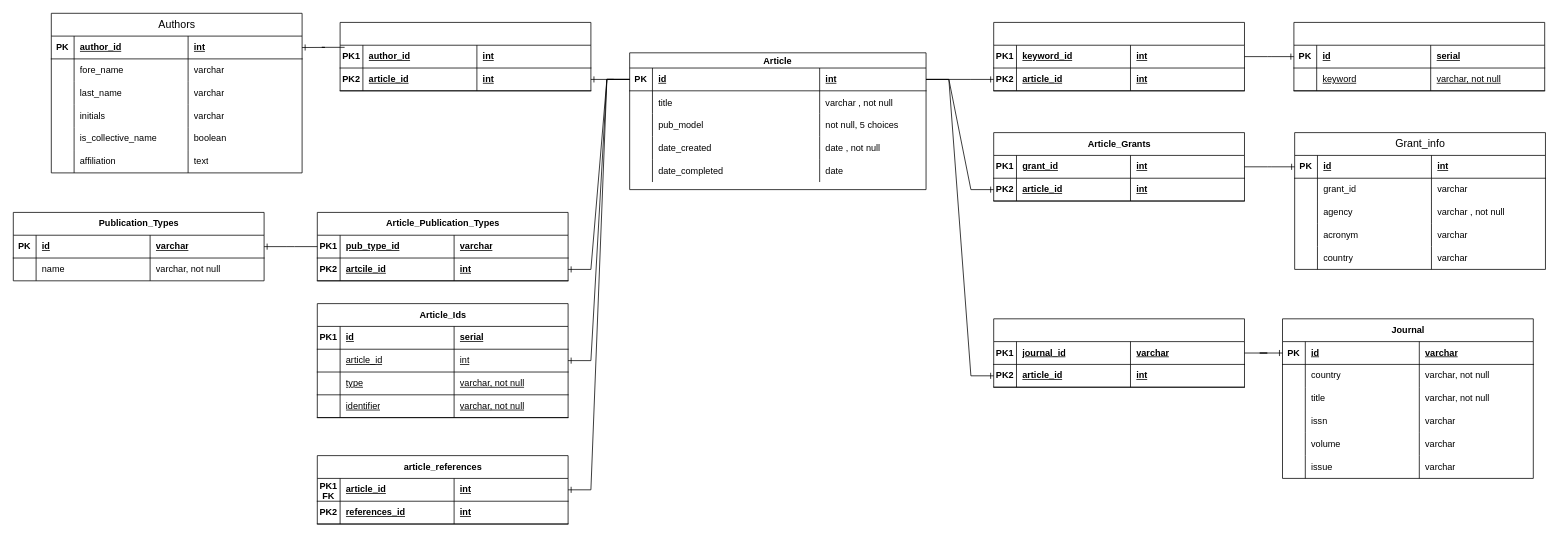
Image size: 1559x537. Some labels were removed from this diagram. Each missing label, with the box of its shape:
Article_Authors: (339, 22, 591, 91)
Article_Journal: (993, 318, 1244, 387)
Article_Keywords: (993, 22, 1244, 91)
Keywords: (1293, 22, 1545, 91)
